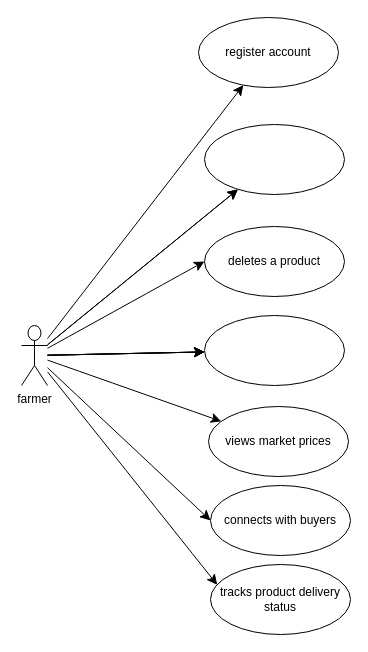
The diagram is 368 pixels wide and 652 high, and some of its shapes have lost their labels. Here are the shapes that lost their labels. From the top down, the box of each, then its label:
(204, 124, 344, 194): adds product
(204, 314, 344, 386): updates a product
